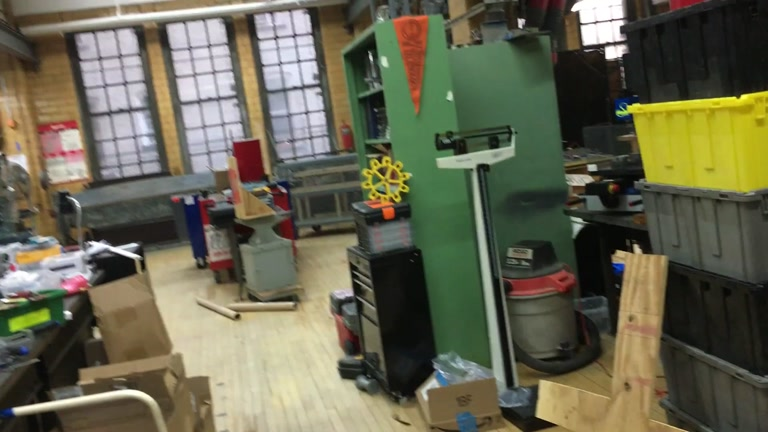gear: (360, 155, 411, 203)
